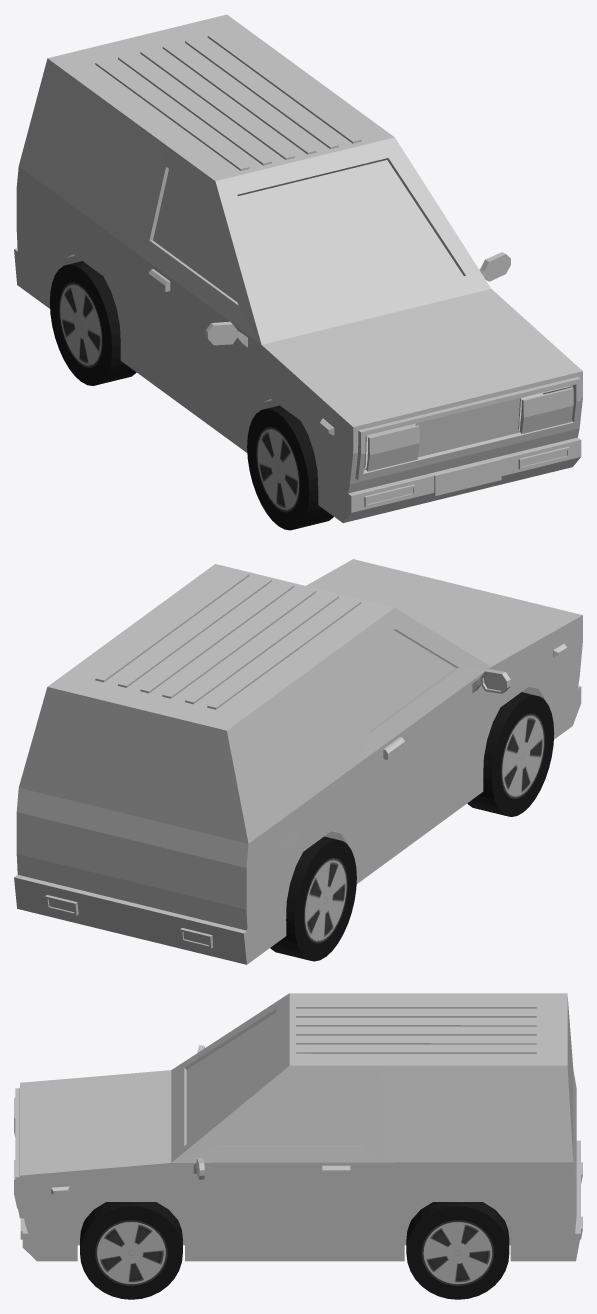
Rendered from LowPolyCarNP.fbx.
3 renders of one model, top to bottom at view 1: azimuth 30°, elevation 25°; view 2: azimuth 150°, elevation 25°; view 3: azimuth 270°, elevation 25°, orthographic. The views are drawn at different scales.
Parts seen in each view (by area): view 1: LowPolyCarNP.Mesh, FrontWheel.Mesh.R, RearWheel.Mesh.R; view 2: LowPolyCarNP.Mesh, FrontWheel.Mesh.R, RearWheel.Mesh.R; view 3: LowPolyCarNP.Mesh, RearWheel.Mesh.L, FrontWheel.Mesh.L.
Part boxes in pixels (left/top/right/bottom): LowPolyCarNP.Mesh: left=14, top=14, right=582, bottom=522; FrontWheel.Mesh.R: left=247, top=405, right=333, bottom=530; RearWheel.Mesh.R: left=50, top=261, right=136, bottom=385; LowPolyCarNP.Mesh: left=14, top=559, right=582, bottom=964; FrontWheel.Mesh.R: left=467, top=692, right=554, bottom=816; RearWheel.Mesh.R: left=270, top=836, right=356, bottom=961; LowPolyCarNP.Mesh: left=14, top=993, right=582, bottom=1261; RearWheel.Mesh.L: left=406, top=1202, right=509, bottom=1299; FrontWheel.Mesh.L: left=80, top=1202, right=182, bottom=1299.
Bounding box in the file's own units: 0.8441 × 0.7157 × 1.66.
